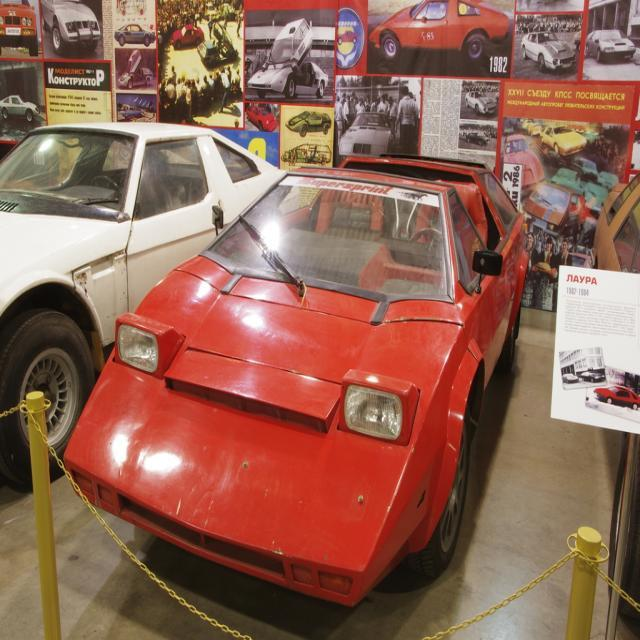truck: (0, 121, 286, 488), (593, 171, 639, 618), (503, 116, 621, 239), (368, 0, 508, 58), (248, 17, 314, 95), (336, 108, 400, 160), (38, 0, 99, 53), (520, 29, 576, 72), (0, 0, 39, 54), (583, 28, 636, 64), (198, 22, 236, 64), (116, 48, 154, 88), (286, 108, 332, 136), (594, 382, 640, 406), (0, 94, 39, 122), (115, 19, 156, 44), (245, 102, 277, 132), (462, 88, 496, 114), (297, 64, 328, 92), (168, 24, 204, 48), (566, 250, 594, 268), (464, 128, 488, 146), (582, 369, 600, 383), (562, 372, 578, 383)
